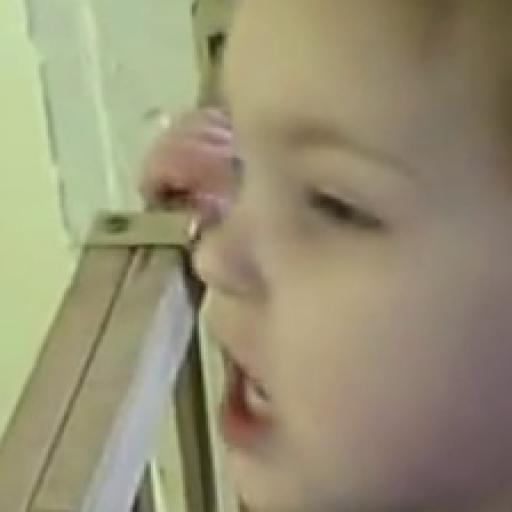Autism: (178, 6, 512, 512)
